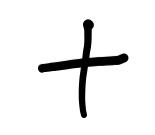plus: (38, 19, 128, 118)
